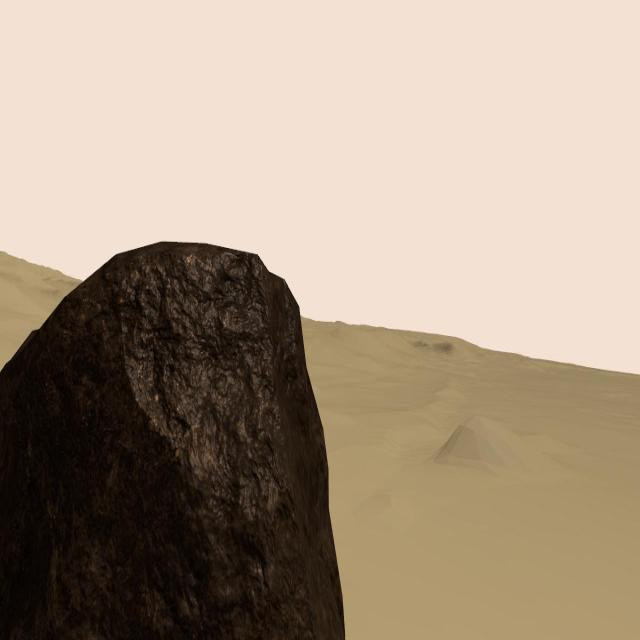rock: (2, 240, 345, 640)
